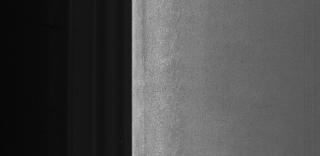silk spot: (161, 20, 193, 108)
